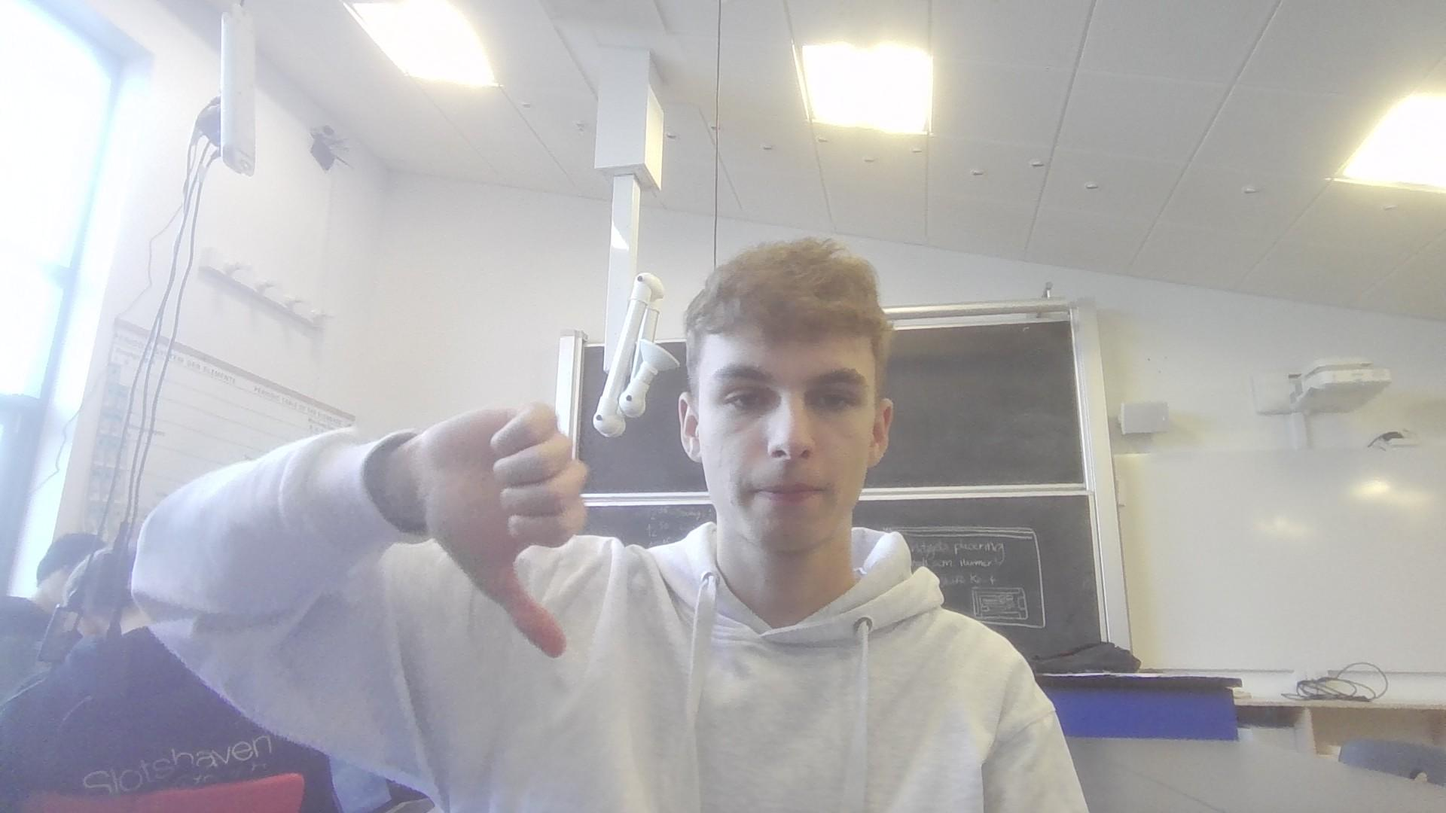thumbs down: (392, 392, 587, 667)
